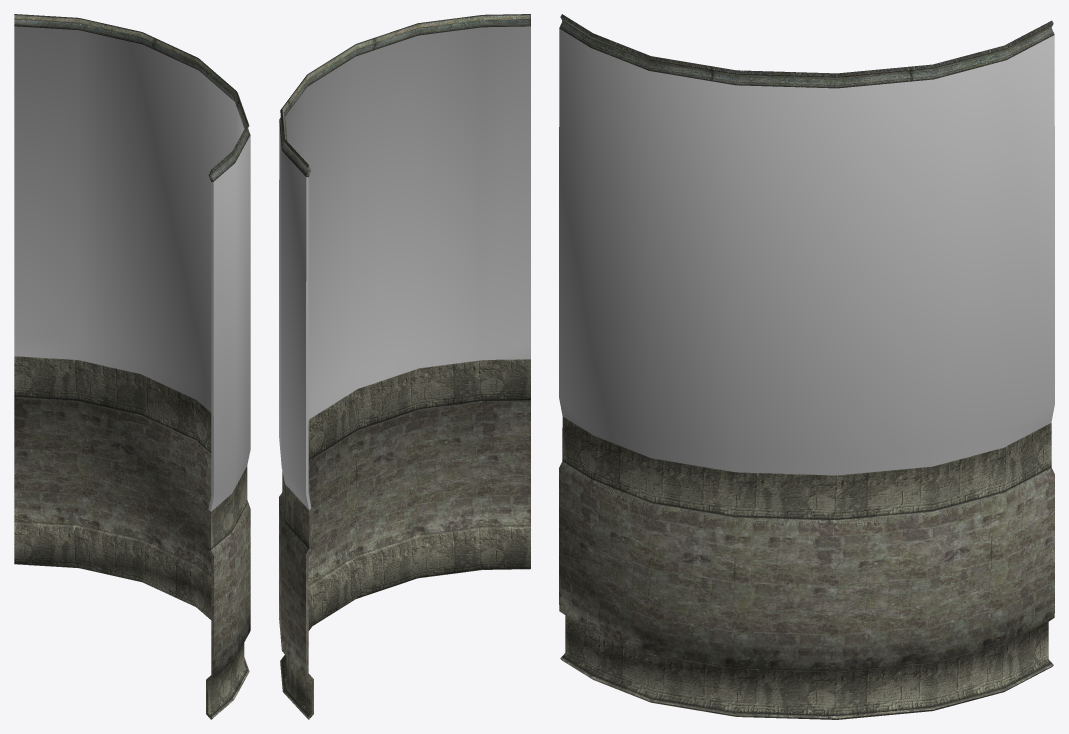
File: Bigendwall_lod.fbx
3 renders of one model, left to right at view 1: azimuth 30°, elevation 25°; view 2: azimuth 150°, elevation 25°; view 3: azimuth 270°, elevation 25°, orthographic. The views are drawn at different scales.
Parts seen in each view (by area): view 1: Mesh Object; view 2: Mesh Object; view 3: Mesh Object.
Boxes of the visible parts, bbox=[...] form: Mesh Object: bbox=[14, 14, 250, 719]; Mesh Object: bbox=[279, 14, 530, 719]; Mesh Object: bbox=[559, 14, 1054, 719].
Size of the model in its own units: 4.17 by 20.02 by 13.9.
